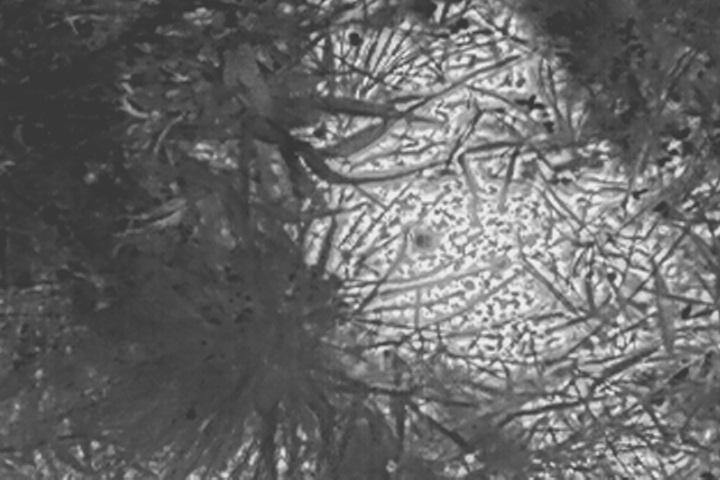landmine: (407, 224, 442, 256)
